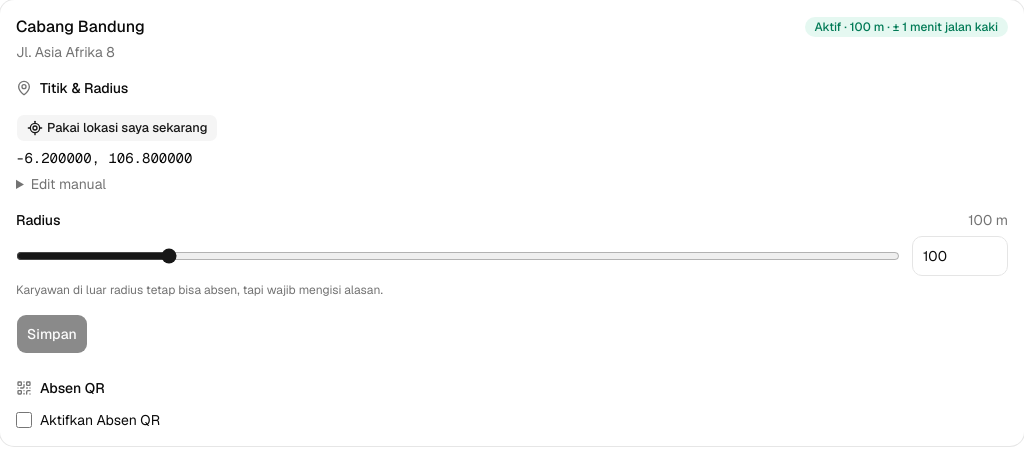
it: LocationForm › updates the '{n} m' label when the radius number input changes
Replace the text in the number field named "radius dalam meter" with "250" at (960, 256), box [912, 236, 1008, 276]
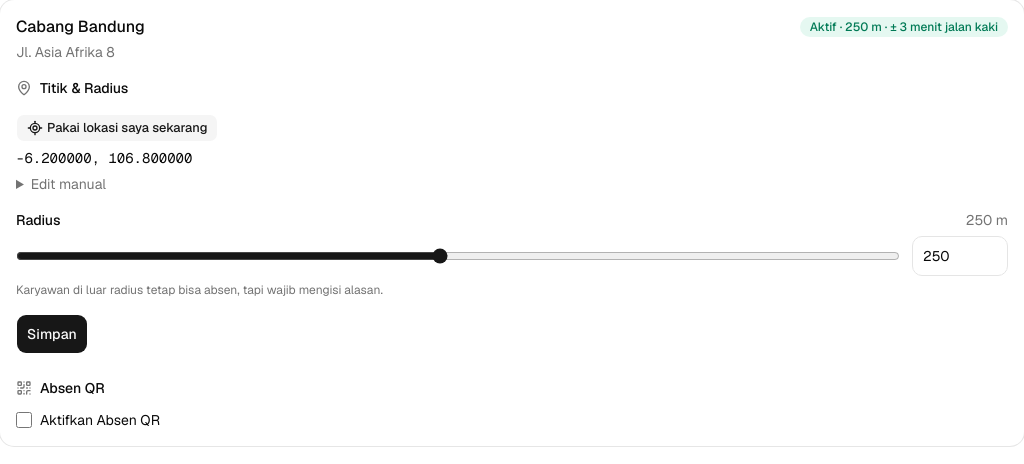
Now the text "250 m" is shown, box [966, 210, 1008, 230]
